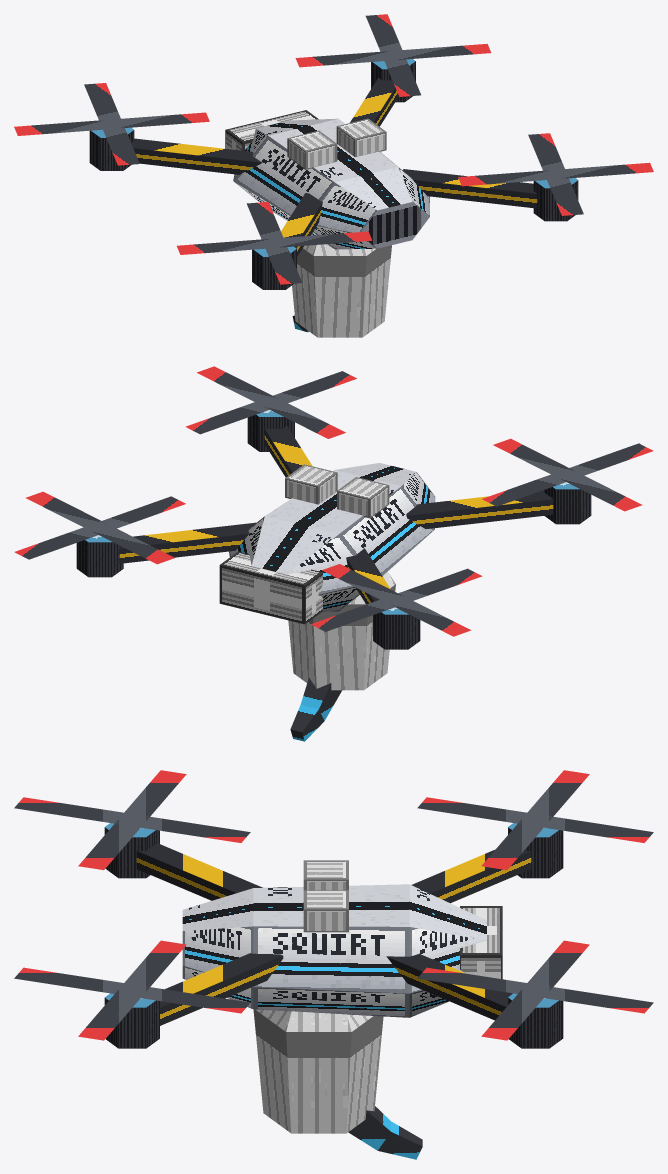
The model's file is squirt_drone.glb.
3 views of the same model, one above another, from view 1: azimuth 30°, elevation 25°; view 2: azimuth 150°, elevation 25°; view 3: azimuth 270°, elevation 25° (orthographic). The views are drawn at different scales.
Parts seen in each view (by area): view 1: Body, Arms, Tank, Rotor4, Rotor1, Rotor2, Rotor3, SirenRed, SirenBlue, Eye; view 2: Arms, Body, Tank, Eye, Rotor2, Rotor3, Rotor1, Rotor4, Nozzle, SirenRed, SirenBlue; view 3: Body, Arms, Tank, Rotor2, Rotor1, Rotor4, Rotor3, Eye, Nozzle, SirenBlue, SirenRed.
Boxes of the visible parts, bbox=[...] form: Body: bbox=[233, 118, 429, 249]; Arms: bbox=[89, 59, 578, 289]; Tank: bbox=[292, 235, 391, 337]; Rotor4: bbox=[458, 133, 653, 215]; Rotor1: bbox=[14, 83, 209, 165]; Rotor2: bbox=[295, 14, 491, 96]; Rotor3: bbox=[177, 202, 372, 284]; SirenRed: bbox=[287, 130, 337, 169]; SirenBlue: bbox=[336, 118, 386, 156]; Eye: bbox=[225, 110, 318, 150]; Arms: bbox=[76, 410, 591, 649]; Body: bbox=[229, 463, 435, 611]; Tank: bbox=[288, 571, 395, 690]; Eye: bbox=[219, 551, 322, 624]; Rotor2: bbox=[14, 491, 185, 564]; Rotor3: bbox=[482, 438, 653, 511]; Rotor1: bbox=[311, 564, 482, 636]; Rotor4: bbox=[185, 366, 356, 438]; Nozzle: bbox=[290, 678, 341, 741]; SirenRed: bbox=[337, 477, 389, 518]; SirenBlue: bbox=[285, 464, 337, 504]; Body: bbox=[182, 884, 486, 1017]; Arms: bbox=[104, 823, 563, 1048]; Tank: bbox=[253, 1009, 383, 1133]; Rotor2: bbox=[417, 940, 653, 1040]; Rotor1: bbox=[417, 770, 653, 869]; Rotor4: bbox=[14, 940, 250, 1040]; Rotor3: bbox=[14, 770, 250, 870]; Eye: bbox=[460, 906, 502, 979]; Nozzle: bbox=[348, 1106, 422, 1159]; SirenBlue: bbox=[303, 890, 348, 932]; SirenRed: bbox=[303, 860, 348, 890].
Bounding box in the file's own units: 1.59 × 0.7433 × 1.59.
1 material, 1 textured.
